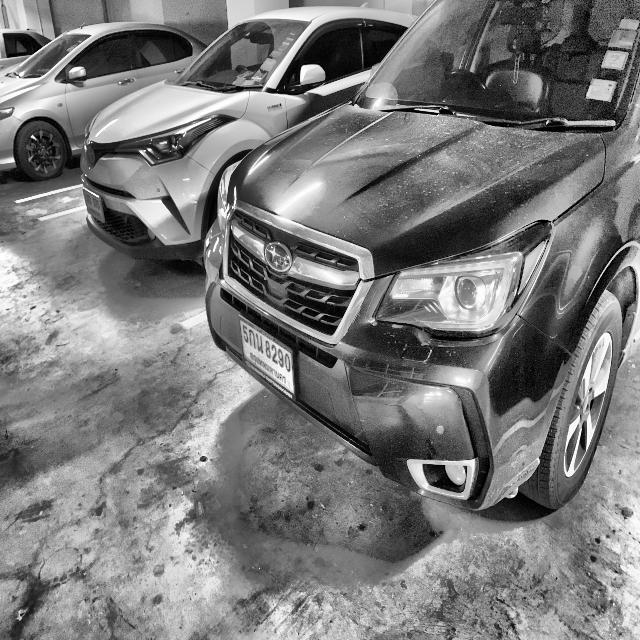license-plate: (236, 314, 296, 404), (82, 185, 107, 227)
